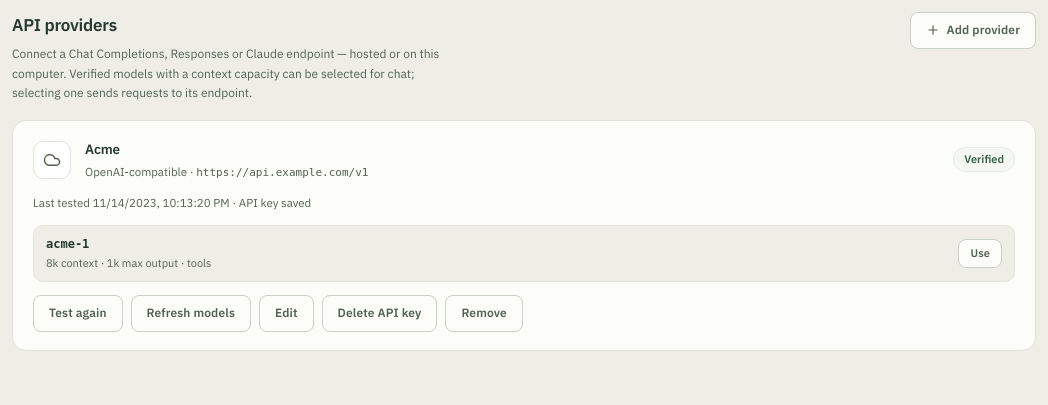
Test: retests a saved provider and refreshes even when the retest fails
Click the button "Test again".
click(78, 314)  # box [33, 295, 123, 332]
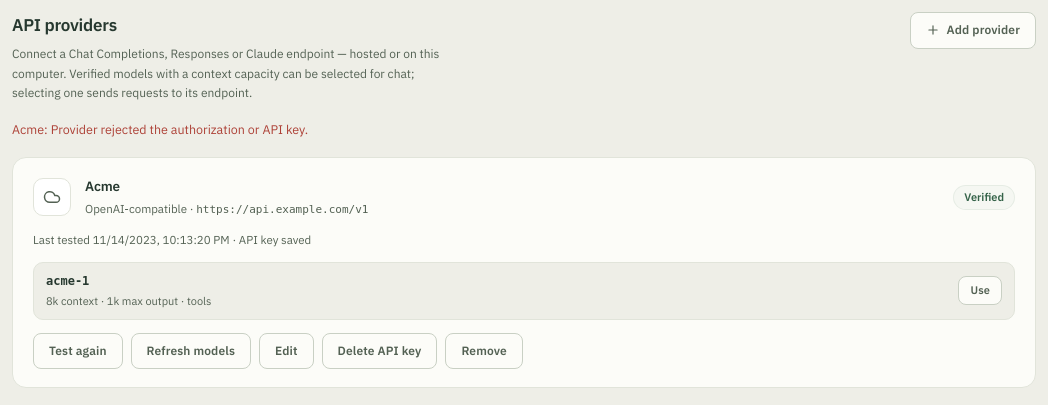
Result: the message shows "rejected the authorization" at [12, 121, 308, 137]
